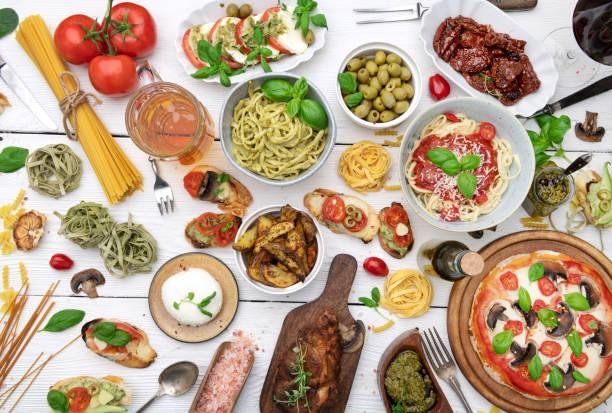Braised Crucian Carp: (449, 229, 611, 412), (398, 96, 534, 233), (419, 0, 556, 119), (218, 74, 332, 186), (174, 0, 323, 85), (149, 252, 240, 342), (233, 204, 323, 294), (335, 40, 421, 130)
